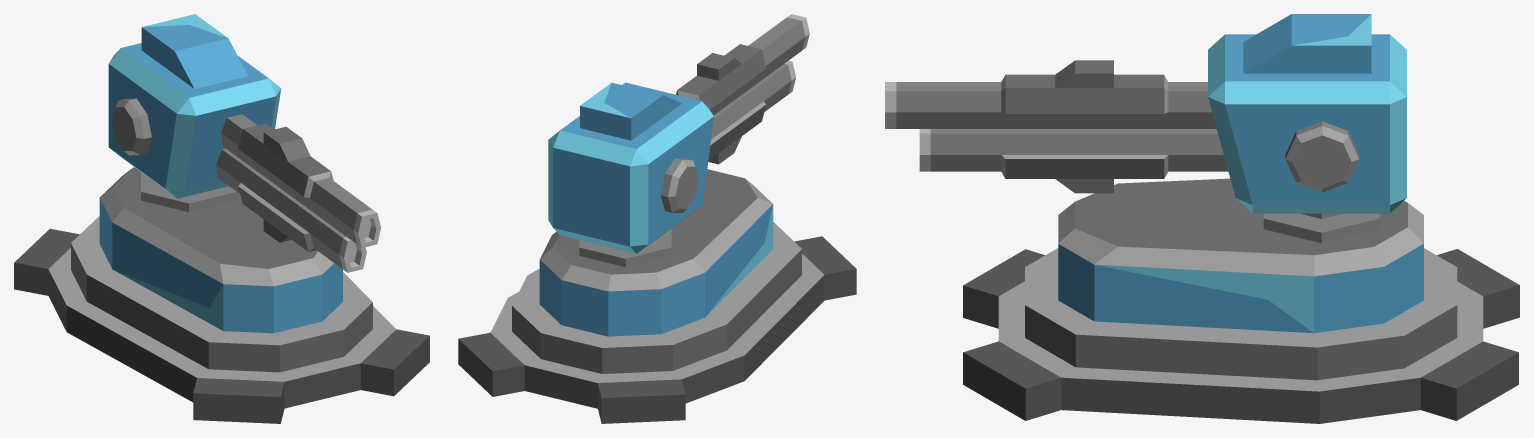
Rendered from tower_lethal_blue_2.fbx.
3 views of the same model, side by side, from view 1: azimuth 30°, elevation 25°; view 2: azimuth 150°, elevation 25°; view 3: azimuth 270°, elevation 25° (orthographic). The views are drawn at different scales.
Parts seen in each view (by area): view 1: tower_lethal_blue_2, top_lethal_blue_2; view 2: tower_lethal_blue_2, top_lethal_blue_2; view 3: tower_lethal_blue_2, top_lethal_blue_2.
Part boxes in pixels (x1=…): tower_lethal_blue_2: x1=14, y1=167, x2=429, y2=423; top_lethal_blue_2: x1=108, y1=14, x2=381, y2=272; tower_lethal_blue_2: x1=458, y1=169, x2=856, y2=423; top_lethal_blue_2: x1=548, y1=14, x2=809, y2=266; tower_lethal_blue_2: x1=963, y1=178, x2=1519, y2=423; top_lethal_blue_2: x1=885, y1=14, x2=1406, y2=243.
Bounding box in the file's own units: 124 × 128 × 229.
